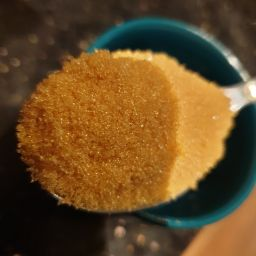Brown Sugar: (11, 47, 242, 215), (47, 88, 216, 149), (112, 62, 185, 196), (25, 123, 209, 168), (69, 71, 114, 194)
